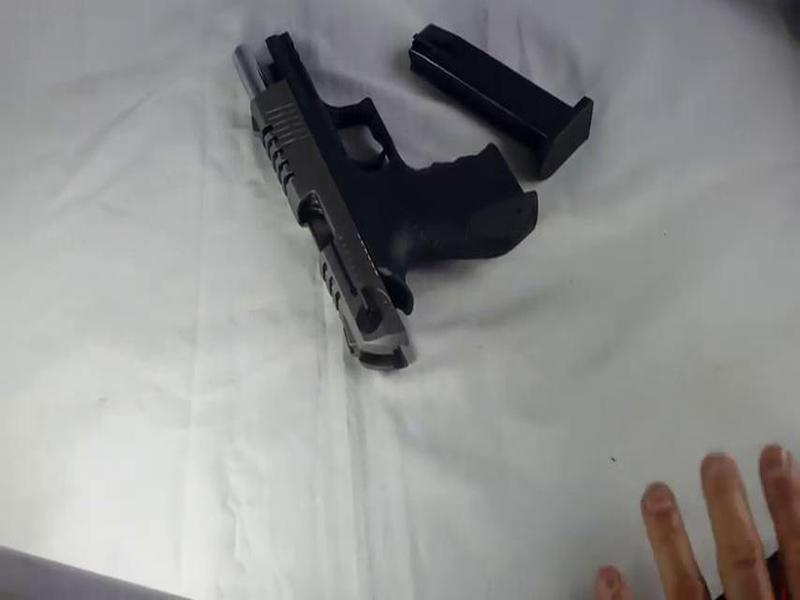Pistola: (201, 31, 542, 365)
